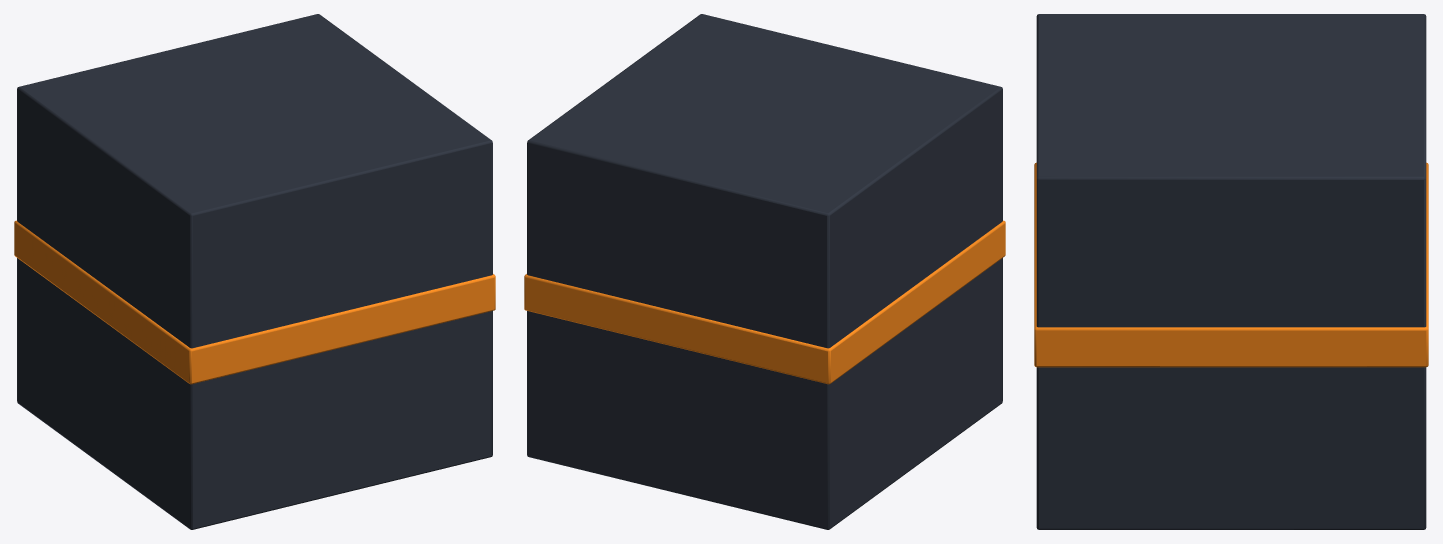
Rendered from crate_l.glb.
The picture shows the model from 3 angles, left to right: view 1: azimuth 30°, elevation 25°; view 2: azimuth 150°, elevation 25°; view 3: azimuth 270°, elevation 25°; orthographic projection. The views are drawn at different scales.
Parts seen in each view (by area): view 1: crate_l; view 2: crate_l; view 3: crate_l.
Part boxes in pixels (left/top/right/bottom): crate_l: left=14, top=14, right=495, bottom=529; crate_l: left=524, top=14, right=1005, bottom=529; crate_l: left=1034, top=14, right=1428, bottom=529.
Size of the model in its own units: 1.62 by 1.6 by 1.62.
